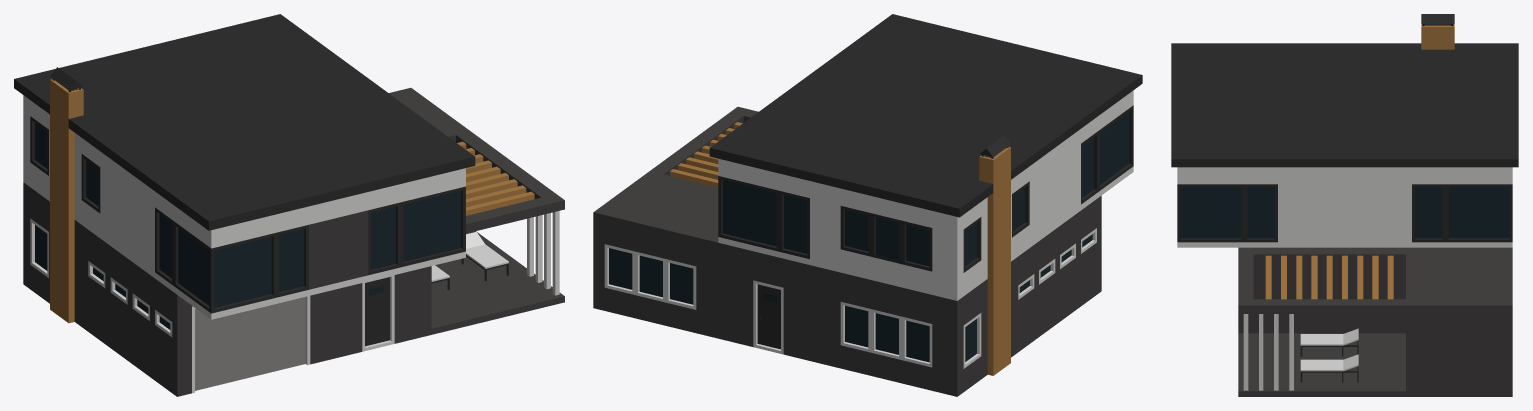
The model's file is building-house-modern.glb.
The picture shows the model from 3 angles, left to right: view 1: azimuth 30°, elevation 25°; view 2: azimuth 150°, elevation 25°; view 3: azimuth 270°, elevation 25°; orthographic projection. The views are drawn at different scales.
Parts seen in each view (by area): view 1: building-house-modern; view 2: building-house-modern; view 3: building-house-modern.
Part boxes in pixels (x1,y1,x2,y2): building-house-modern: (14, 14, 564, 396); building-house-modern: (593, 14, 1142, 396); building-house-modern: (1171, 14, 1518, 396).
Size of the model in its own units: 13.3 by 7.77 by 11.4.
1 material, 1 textured.
